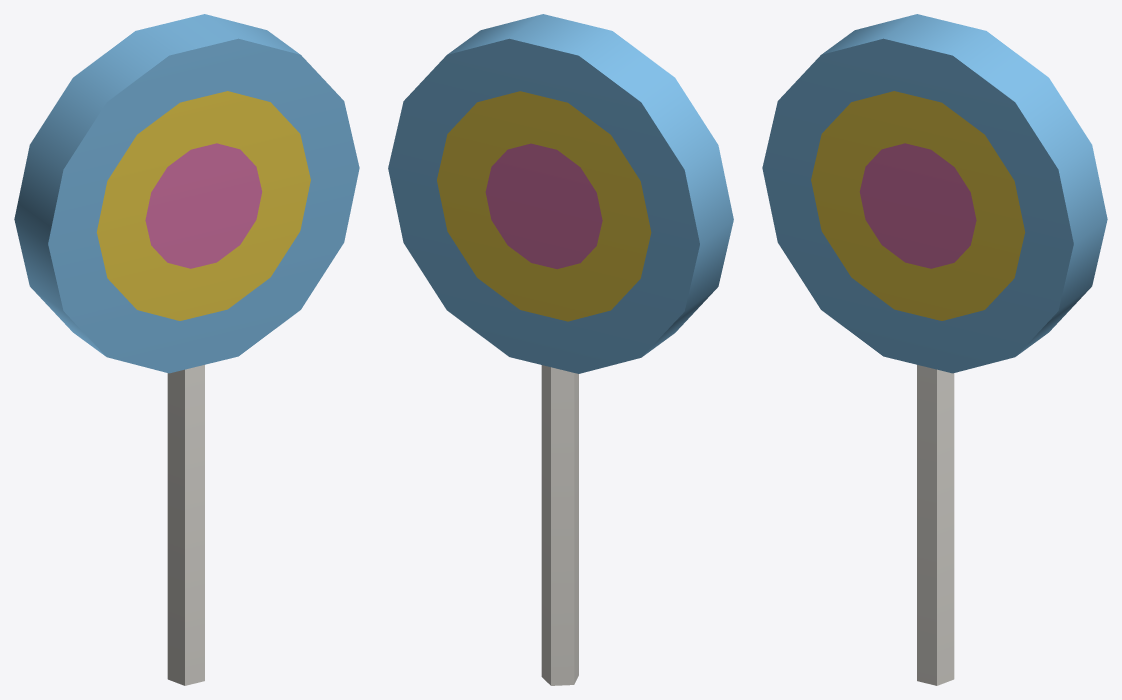
Rendered from treat_lollipop.glb.
The picture shows the model from 3 angles, left to right: view 1: azimuth 30°, elevation 25°; view 2: azimuth 150°, elevation 25°; view 3: azimuth 330°, elevation 25°; orthographic projection.
Visible parts, largest first — view 1: treat_lollipop; view 2: treat_lollipop; view 3: treat_lollipop.
Part boxes in pixels (<box>): treat_lollipop: <box>14,14,359,685</box>; treat_lollipop: <box>388,14,733,685</box>; treat_lollipop: <box>762,14,1107,685</box>.
Size of the model in its own units: 0.064 by 0.1262 by 0.012.
